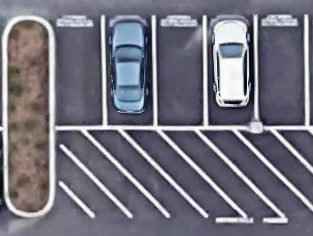Occupied: (103, 16, 156, 129), (205, 16, 257, 127)
Vacant: (51, 16, 104, 127), (154, 16, 206, 128), (256, 16, 307, 127)
